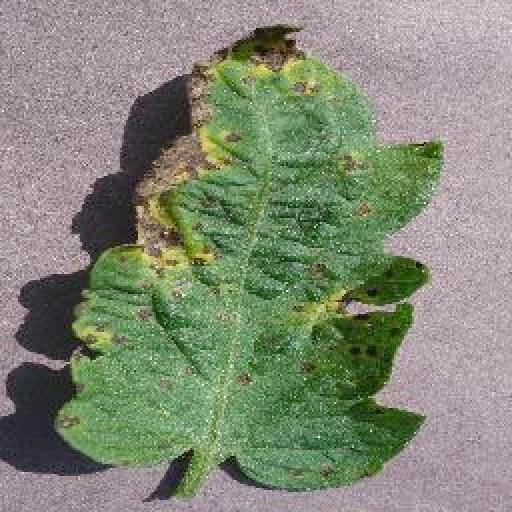disease_tomato: (52, 26, 446, 490)
